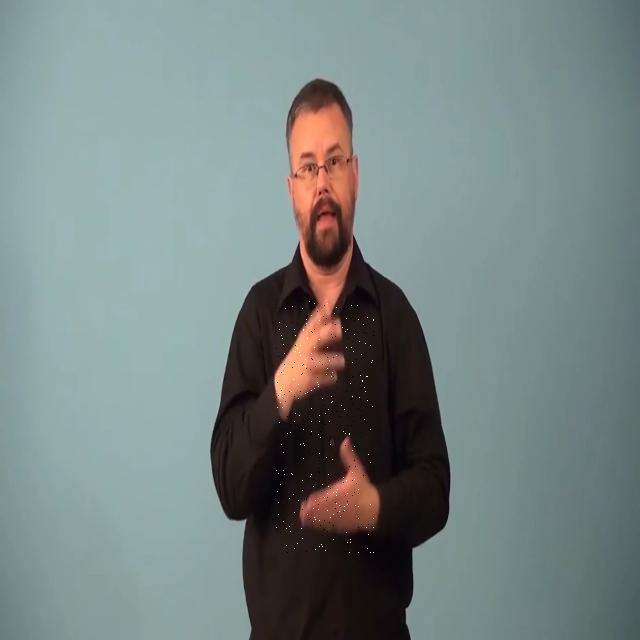cash: (276, 299, 374, 554)
